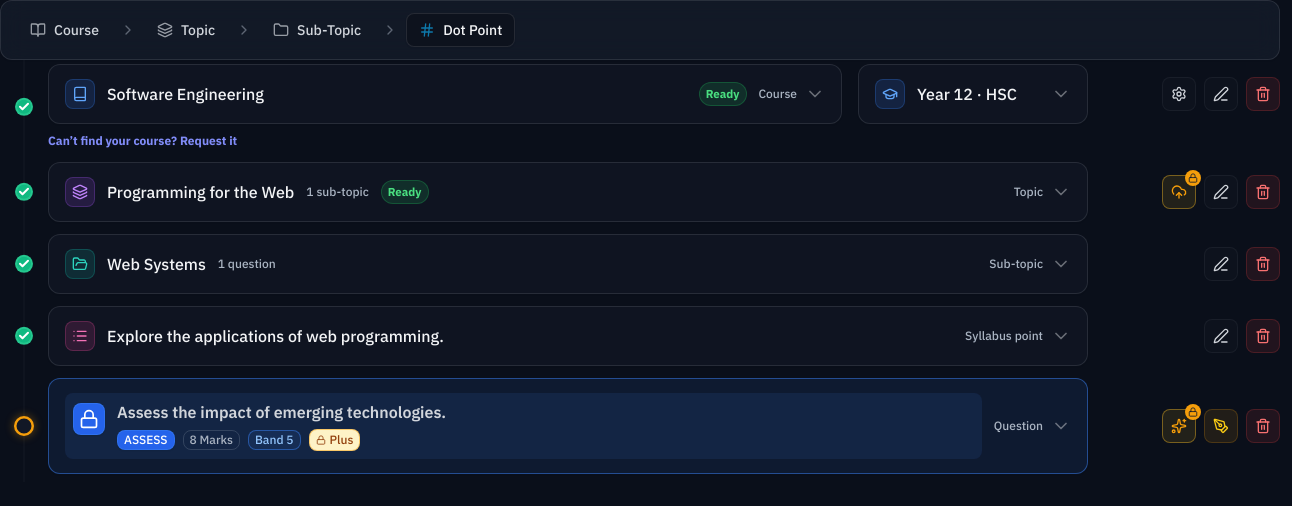
Test: the cleared-question notice, driven from the breadcrumb › names the level the Sub-Topic crumb returns to
What coordinates should you click on to do the following:
click the button "Sub-Topic"
I would click on:
 (317, 30)
Its box is [260,13,374,47].
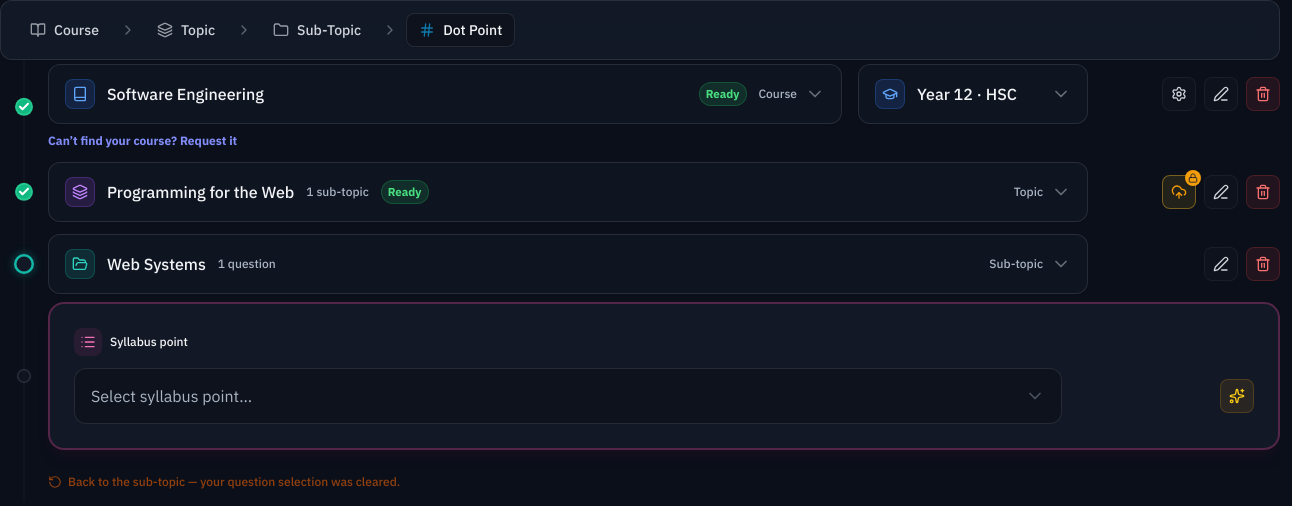
Check: the message reads "Back to the sub-topic — your question selection was cleared.", box [68,474,400,489]
